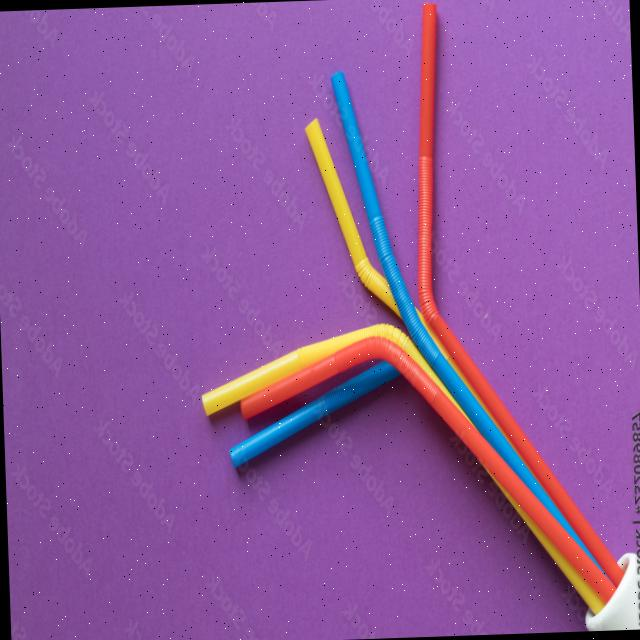plastic: (405, 2, 463, 344)
